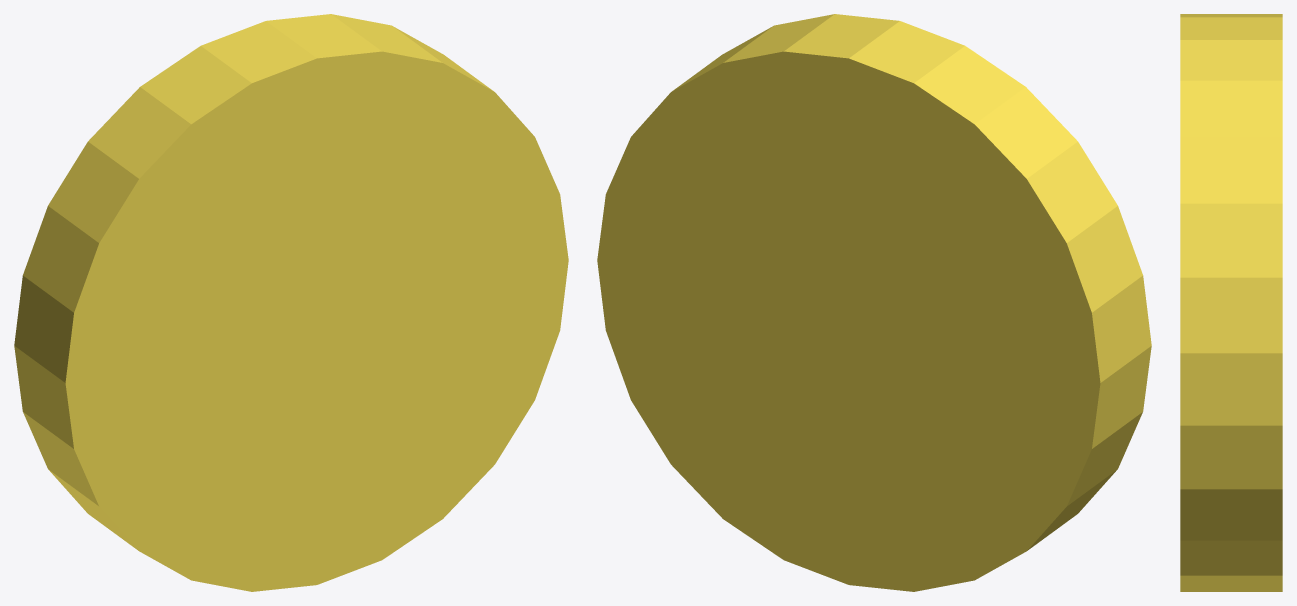
Rendered from star_badge.glb.
3 renders of one model, left to right at view 1: azimuth 30°, elevation 25°; view 2: azimuth 150°, elevation 25°; view 3: azimuth 270°, elevation 25°, orthographic.
Parts seen in each view (by area): view 1: geometry_0; view 2: geometry_0; view 3: geometry_0.
Part boxes in pixels (x1,y1,x2,y2): geometry_0: (14,14,568,591); geometry_0: (597,14,1151,591); geometry_0: (1180,14,1282,591).
Size of the model in its own units: 0.34 by 0.34 by 0.06.
